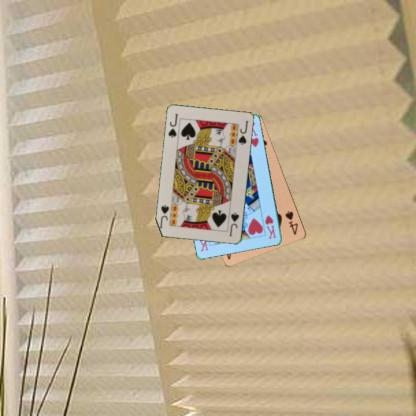4s: (282, 209, 300, 236)
Js: (227, 210, 240, 237), (166, 112, 179, 139)
Kh: (262, 213, 278, 240)
